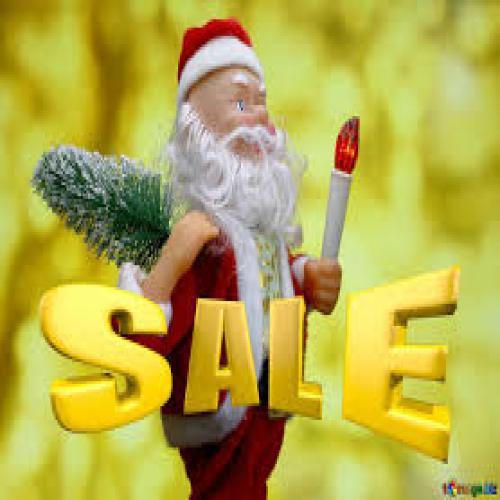Santa: (120, 18, 342, 498)
